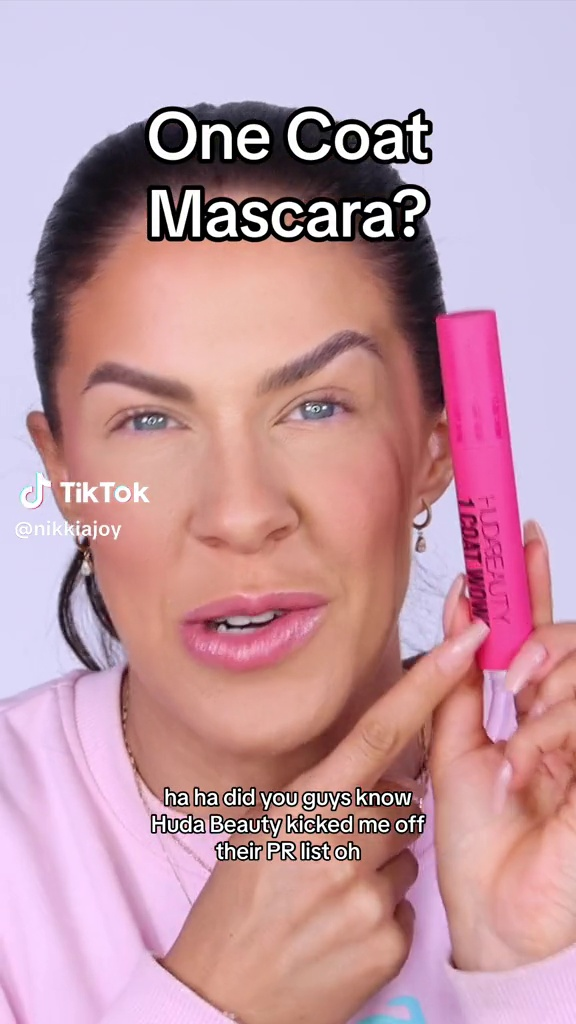train' :'yolo_data/train/images',: (425, 300, 545, 683)
